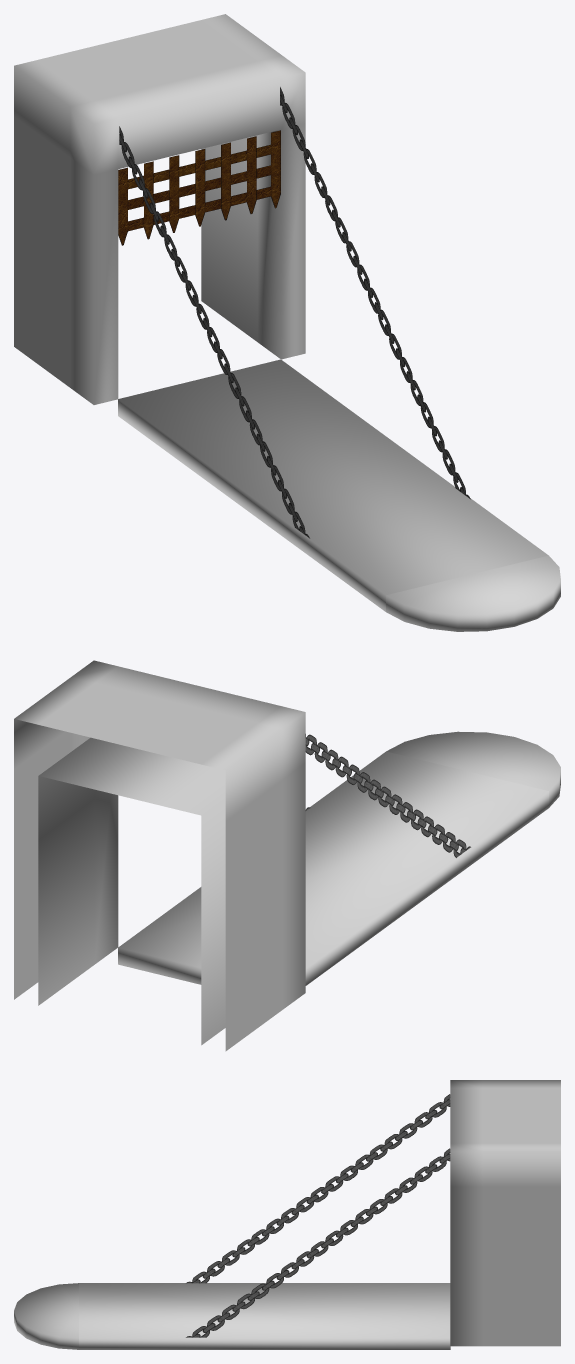
Rendered from castleBridge.fbx.
3 renders of one model, top to bottom at view 1: azimuth 30°, elevation 25°; view 2: azimuth 150°, elevation 25°; view 3: azimuth 270°, elevation 25°, orthographic. The views are drawn at different scales.
Parts seen in each view (by area): view 1: Bridge_wall, Gate, decals; view 2: Bridge_wall, Gate, decals; view 3: Bridge_wall, Gate, decals.
Part boxes in pixels (x1,y1,x2,y2): Bridge_wall: (14,14,305,404); Gate: (118,359,560,631); decals: (118,87,470,538); Bridge_wall: (14,660,305,1051); Gate: (118,731,560,985); decals: (305,734,470,857); Bridge_wall: (450,1080,560,1346); Gate: (14,1283,450,1349); decals: (186,1094,450,1337).
Size of the model in its own units: 6.86 by 9.24 by 22.16.
